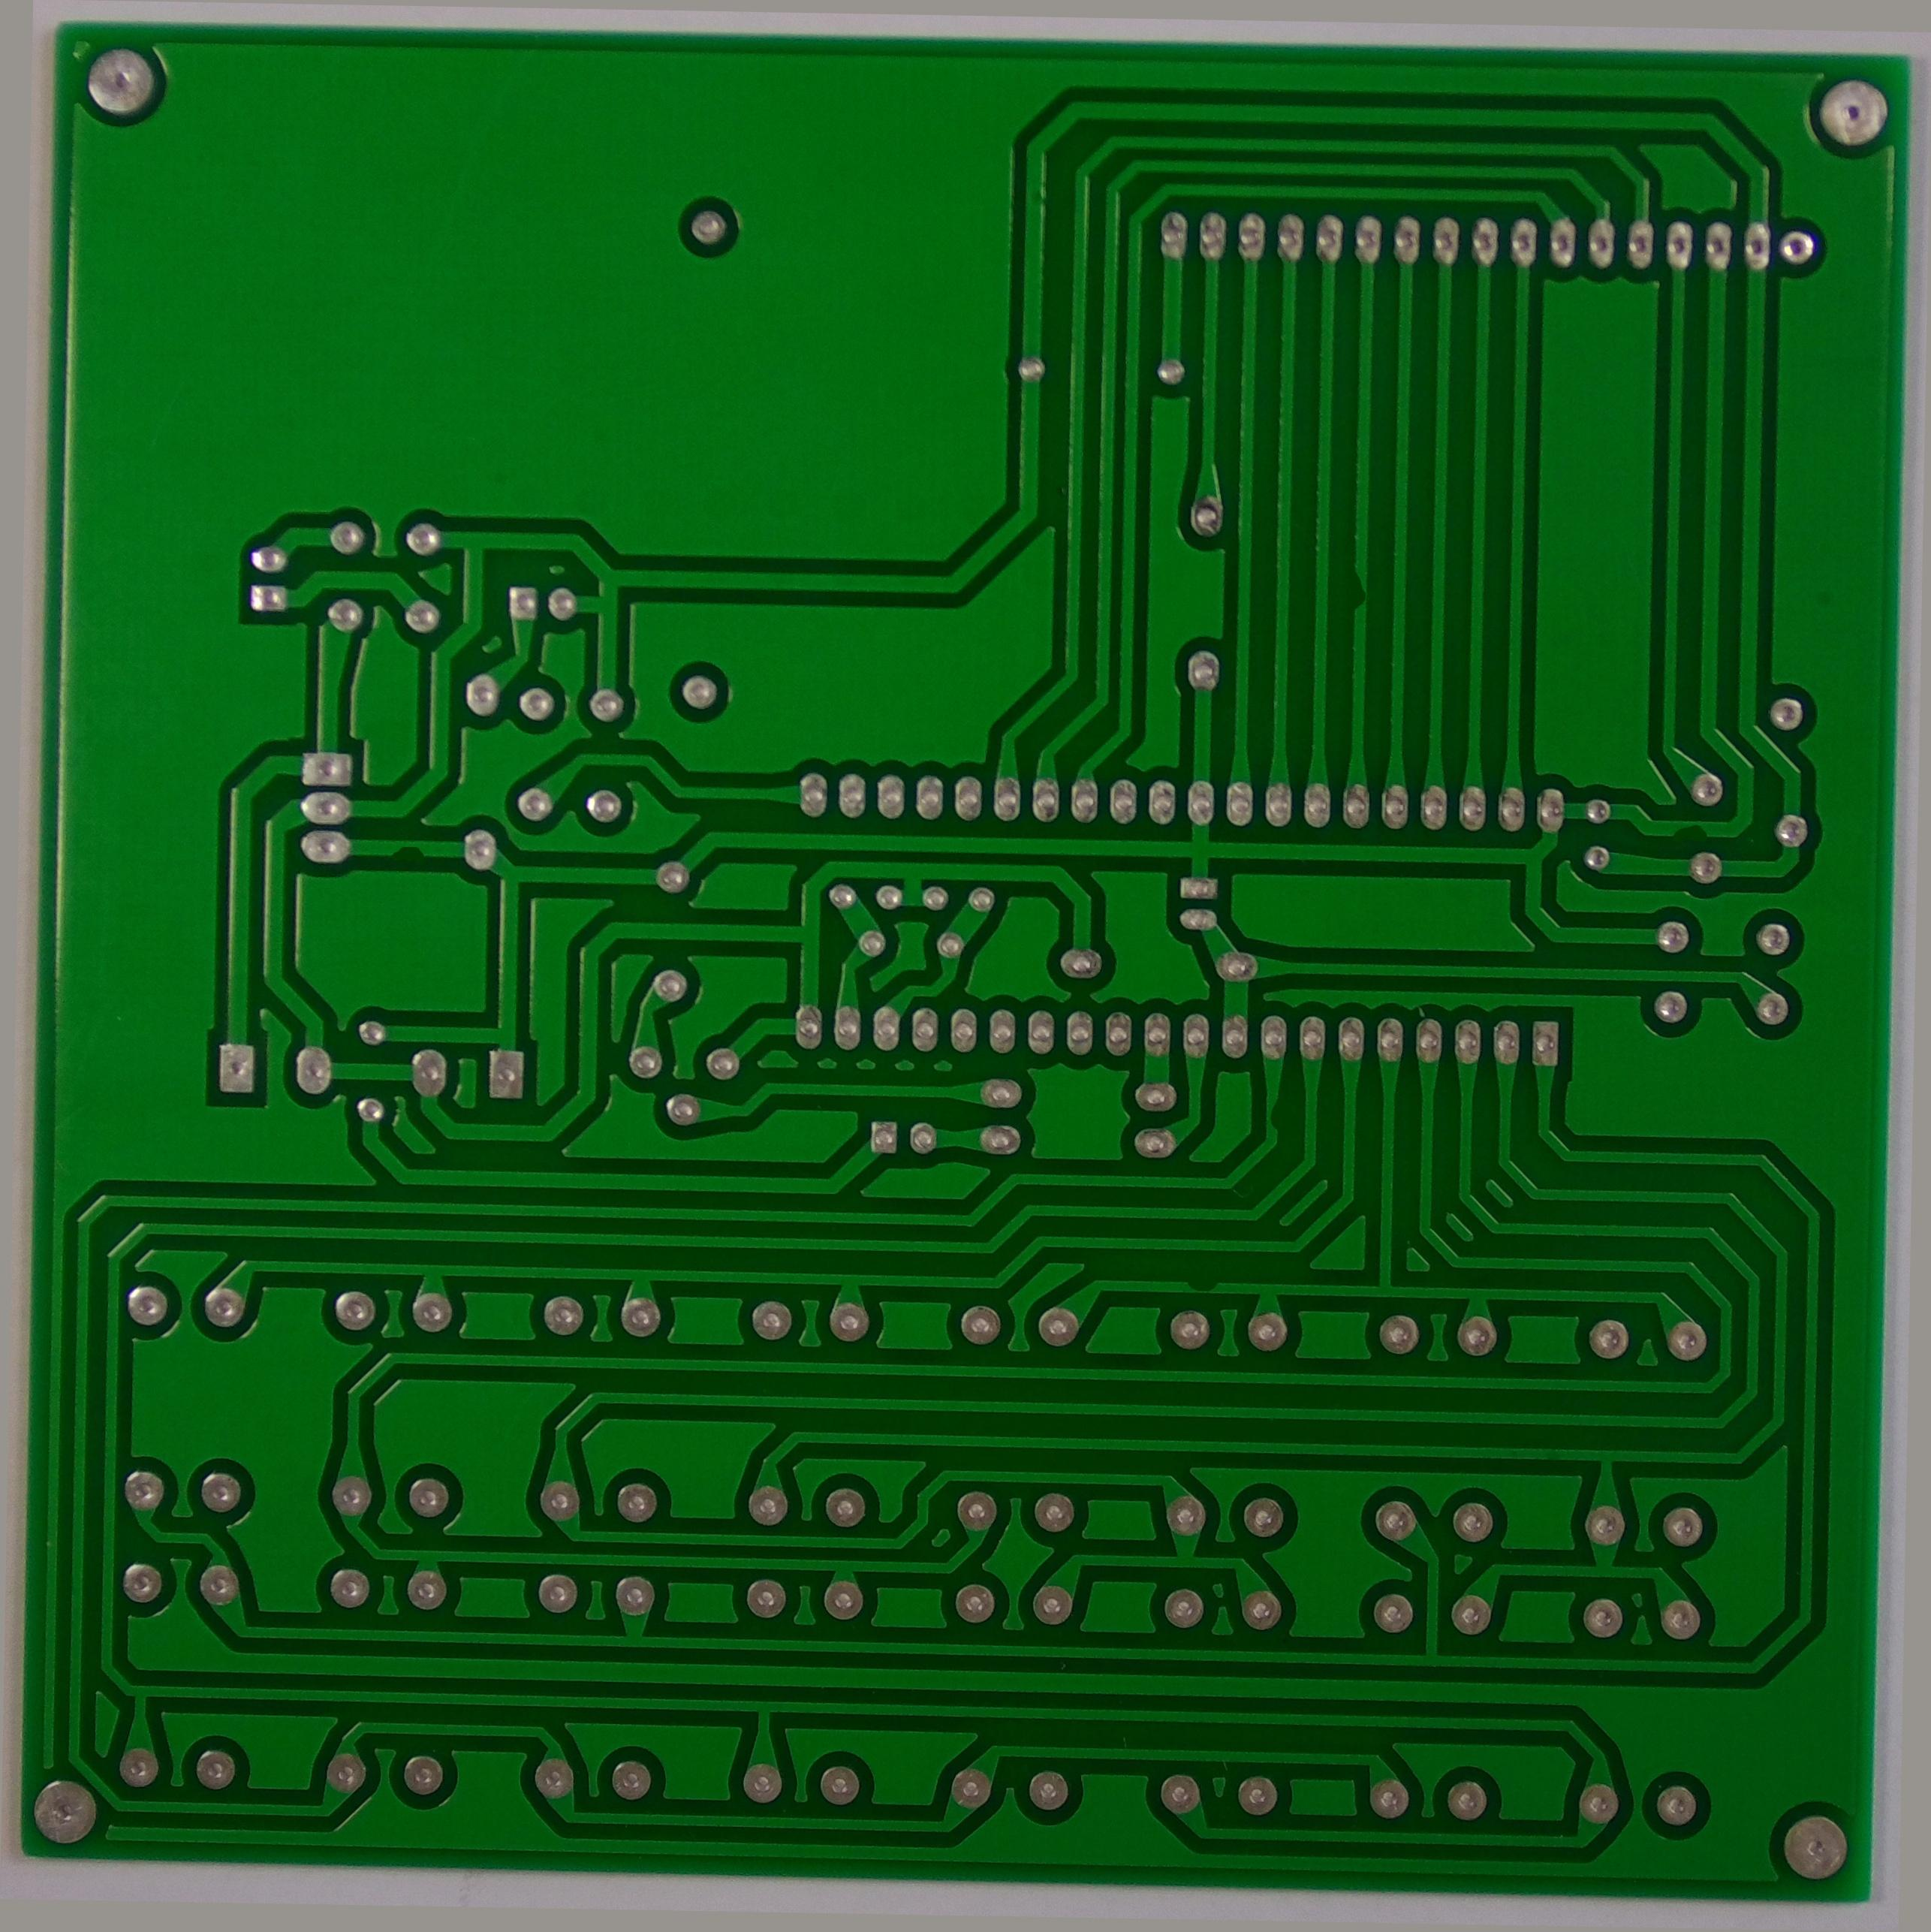mouse_bite: (1337, 541, 1379, 614), (1668, 798, 1735, 835), (368, 839, 424, 879), (1181, 1269, 1241, 1306), (1264, 1086, 1298, 1139)
